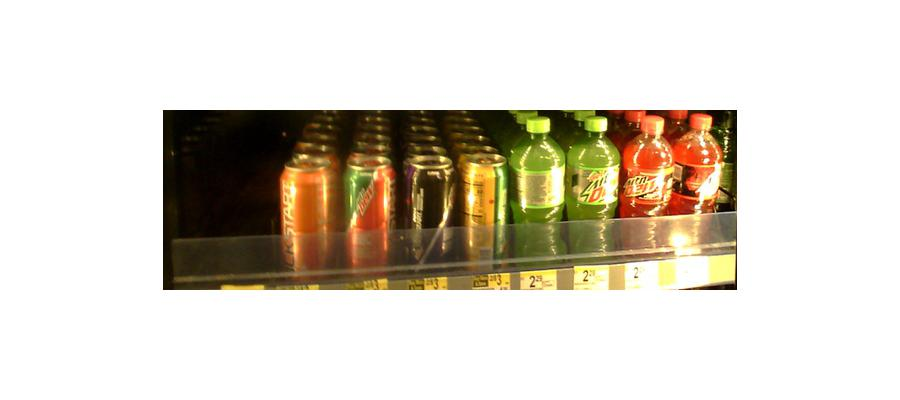bottle: (279, 135, 342, 272), (510, 116, 566, 266), (620, 109, 675, 252), (342, 128, 396, 269), (567, 114, 619, 258), (401, 146, 456, 268), (676, 107, 721, 253), (458, 146, 510, 266)
